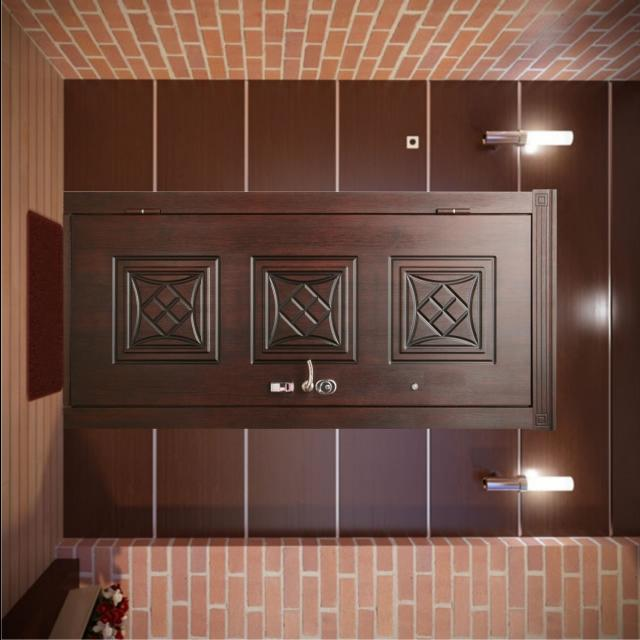close: (59, 188, 548, 422)
